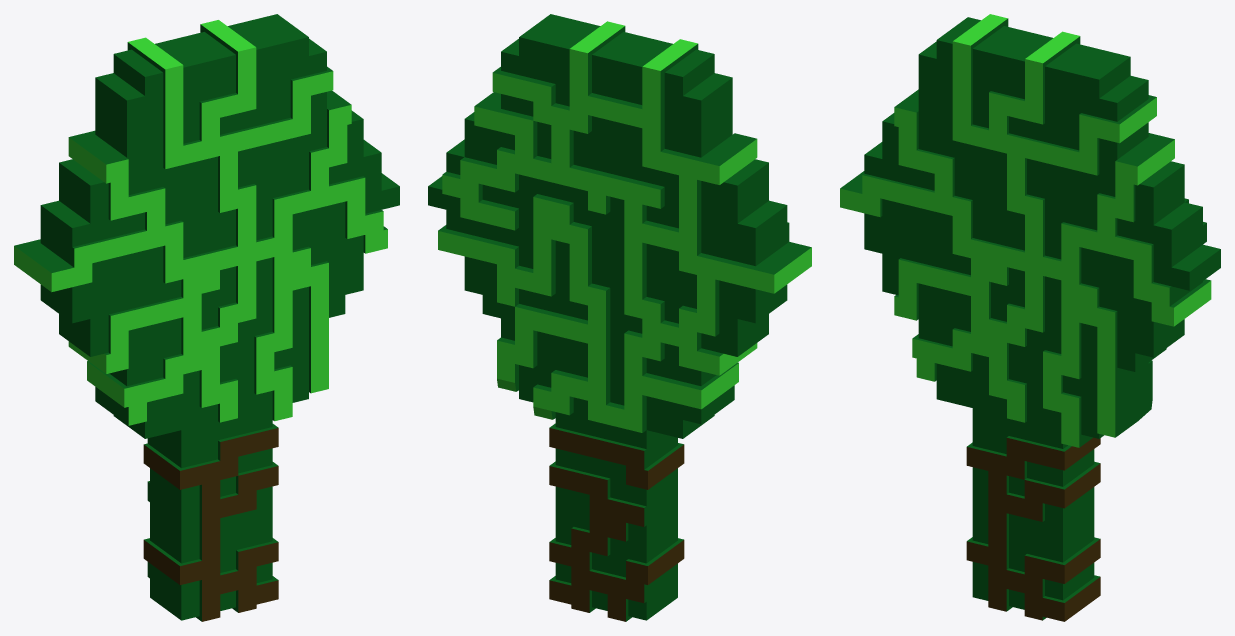
Rendered from Tree.fbx.
The picture shows the model from 3 angles, left to right: view 1: azimuth 30°, elevation 25°; view 2: azimuth 150°, elevation 25°; view 3: azimuth 330°, elevation 25°; orthographic projection.
Parts seen in each view (by area): view 1: Cube; view 2: Cube; view 3: Cube.
Part boxes in pixels (left/top/right/bottom): Cube: left=14, top=14, right=399, bottom=621; Cube: left=428, top=14, right=811, bottom=621; Cube: left=840, top=14, right=1220, bottom=621.
Size of the model in its own units: 205 by 314 by 38.59.
